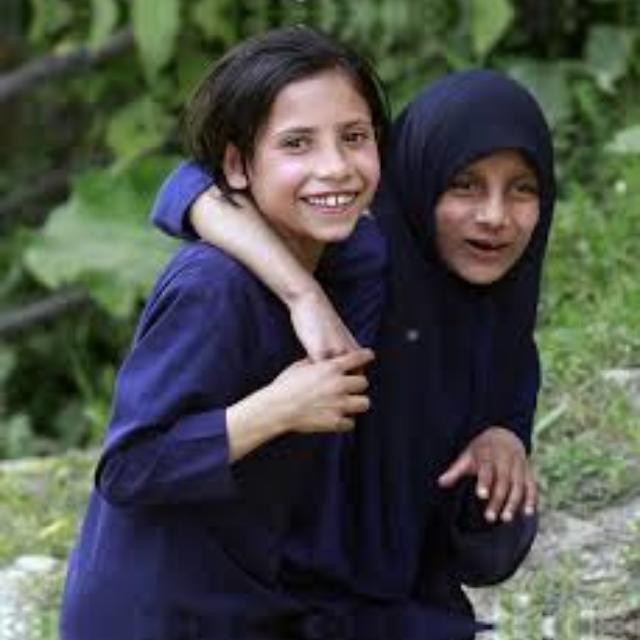person: (94, 17, 393, 591), (390, 49, 572, 622), (94, 0, 393, 7), (390, 632, 572, 640)
